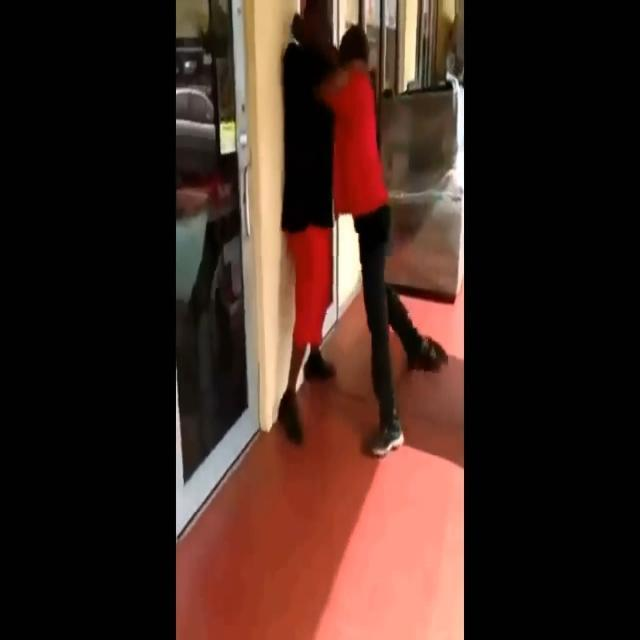violence: (280, 0, 440, 453)
